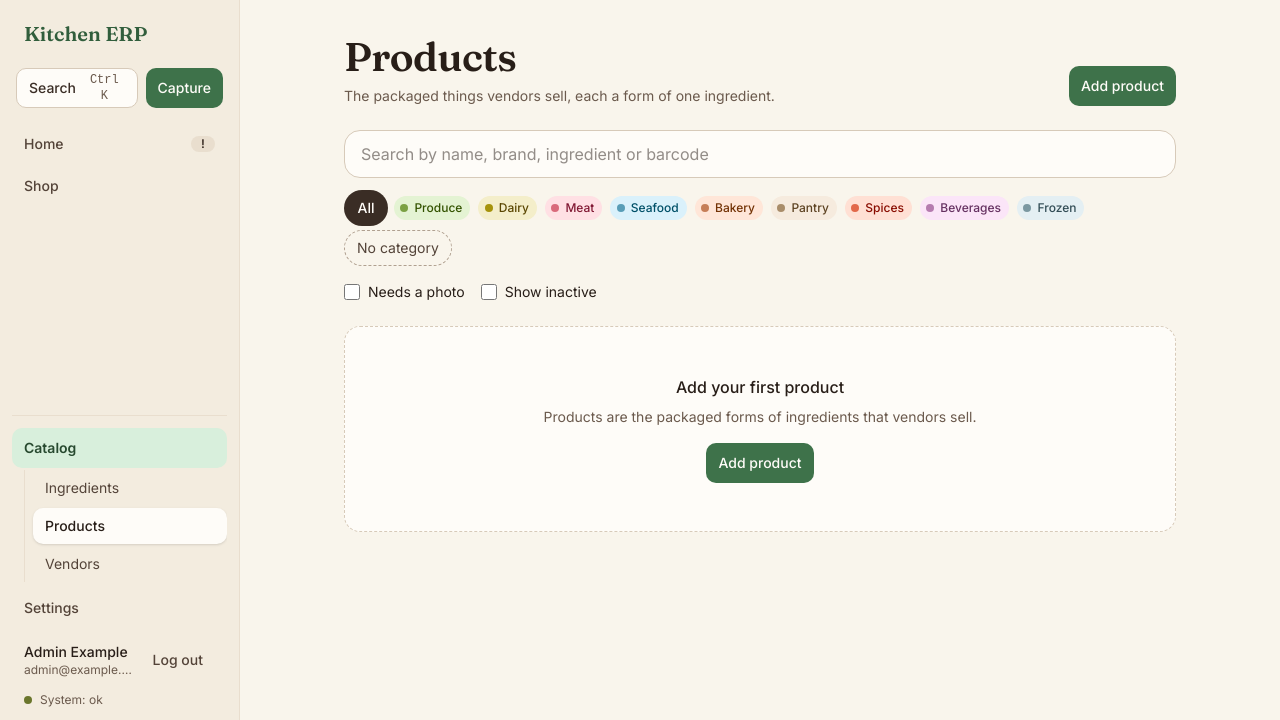
Scenario: ingredient picker (1G) › says which spelling matched once an ingredient is chosen
This screenshot has width=1280, height=720.
Expected: the heading "Products" is shown, x1=344 y1=32 x2=516 y2=81
Click the 1st button "Add product": coordinates (1122, 86) x1=1069 y1=66 x2=1176 y2=106
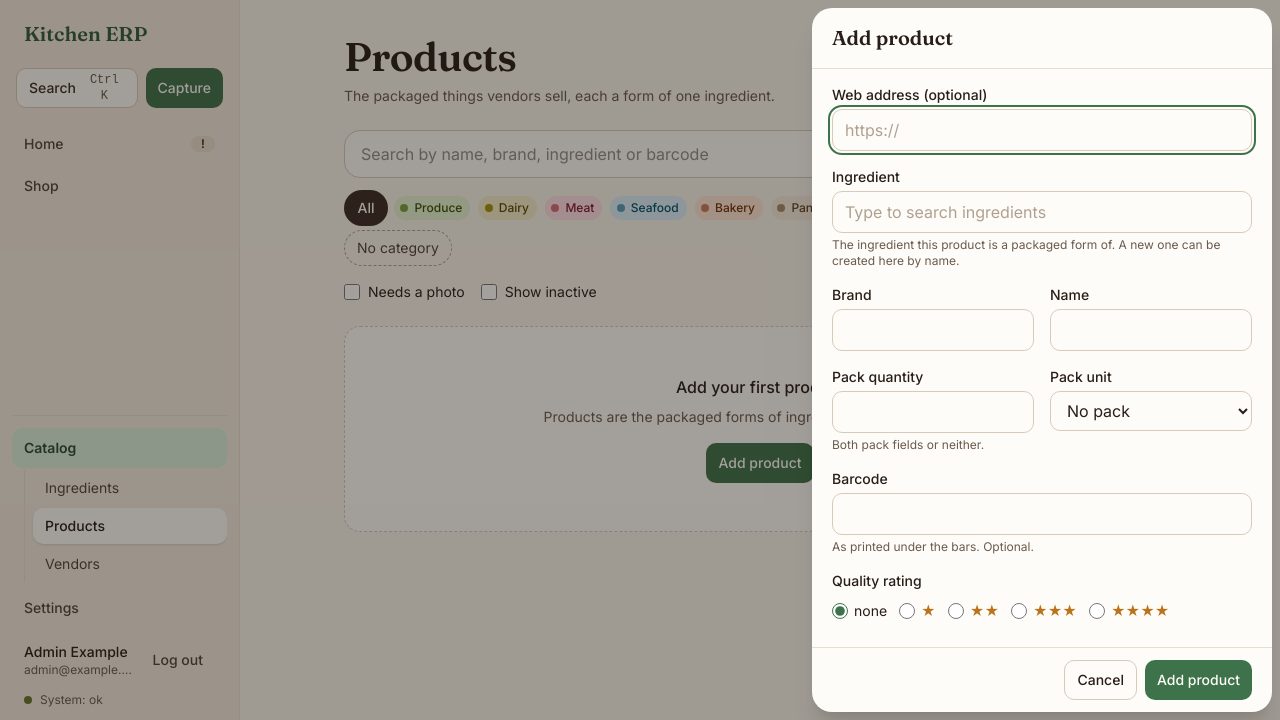
In the dropdown labelled "Ingredient": coordinates (1042, 212) x1=832 y1=191 x2=1252 y2=233, type "green onion"
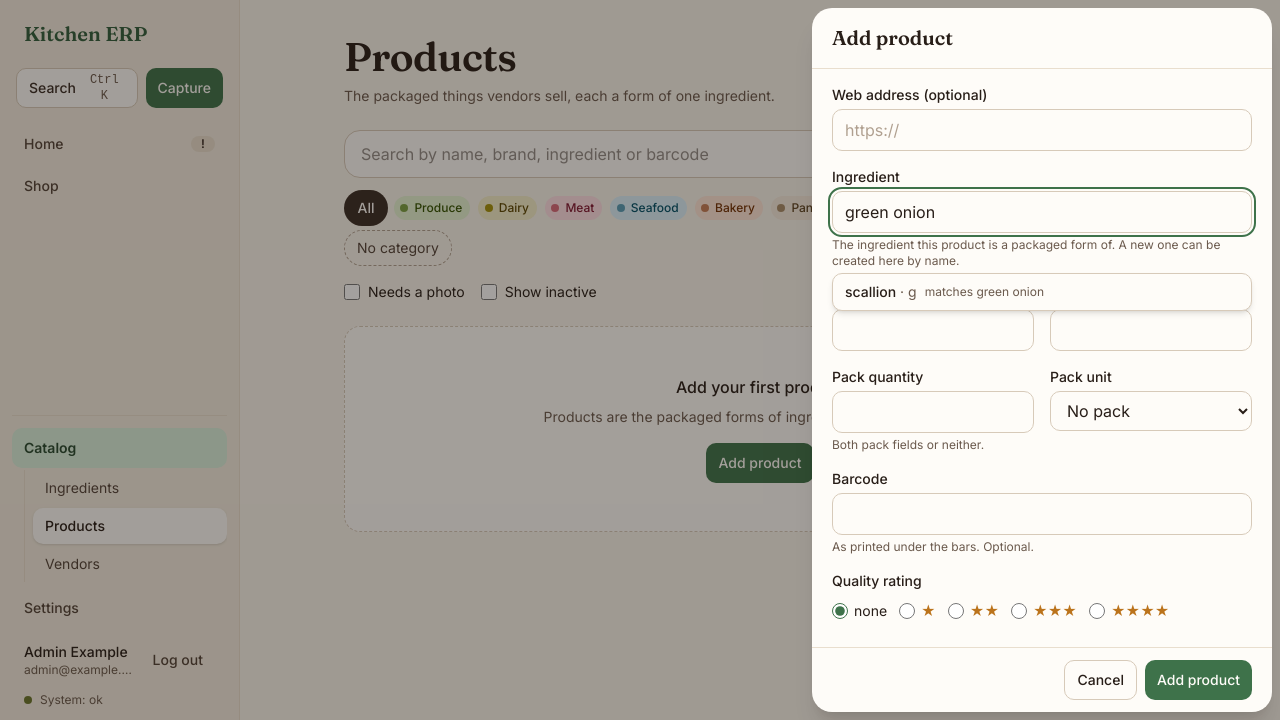
Click the option with aria-label "green onion, another name for scallion": coordinates (944, 292) x1=845 y1=283 x2=1044 y2=300
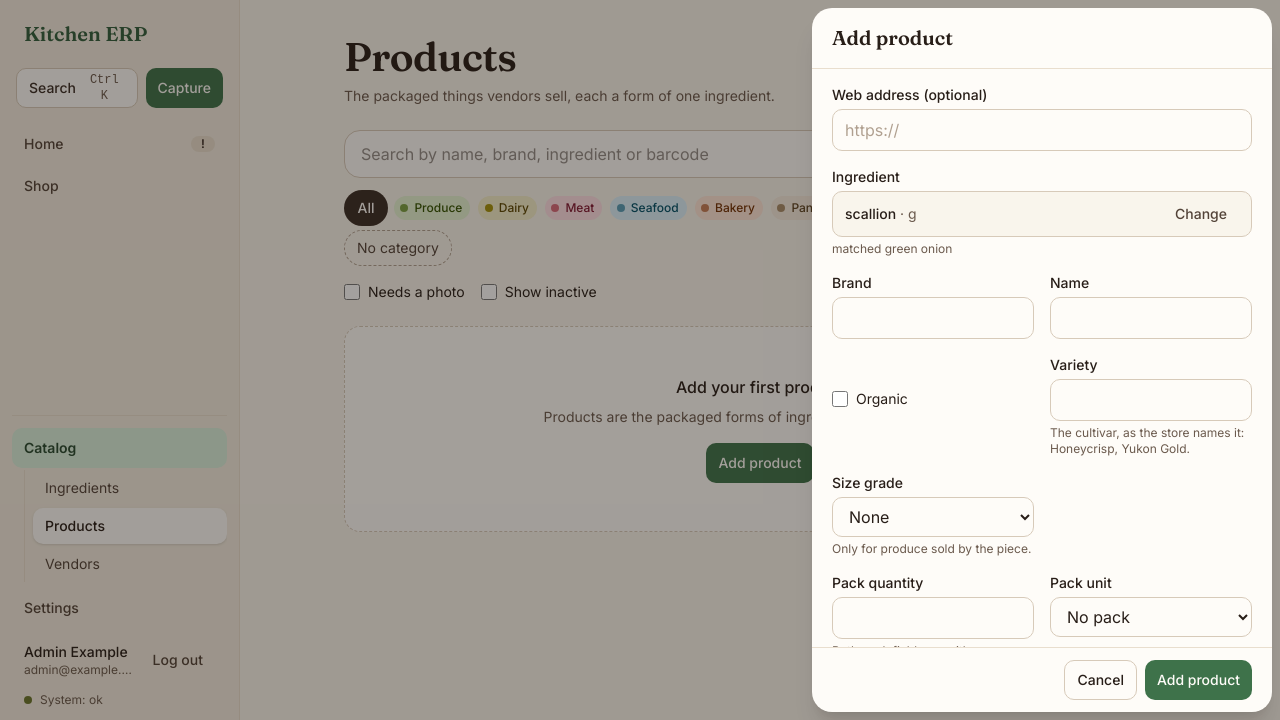
Expected: the element with test id "new-product-ingredient-choice" reads "scallion · g", x1=845 y1=204 x2=917 y2=224
Expected: the text with test id "new-product-ingredient-note" reads "matched green onion", x1=832 y1=241 x2=952 y2=256
